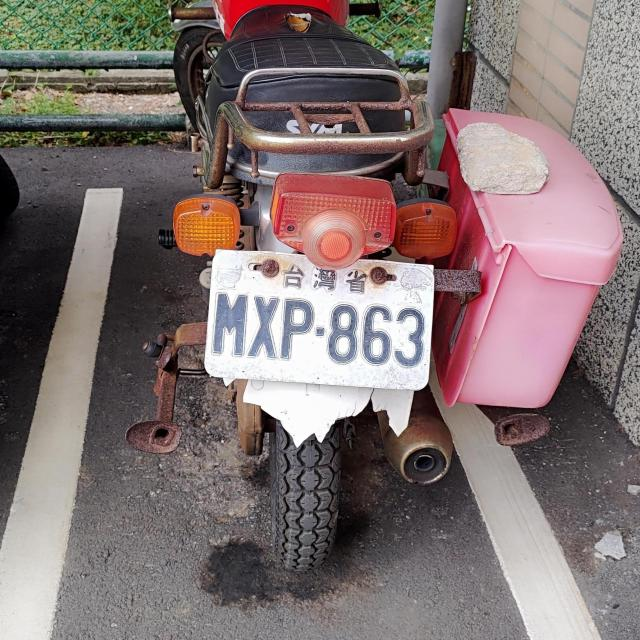W: (202, 250, 434, 383)
